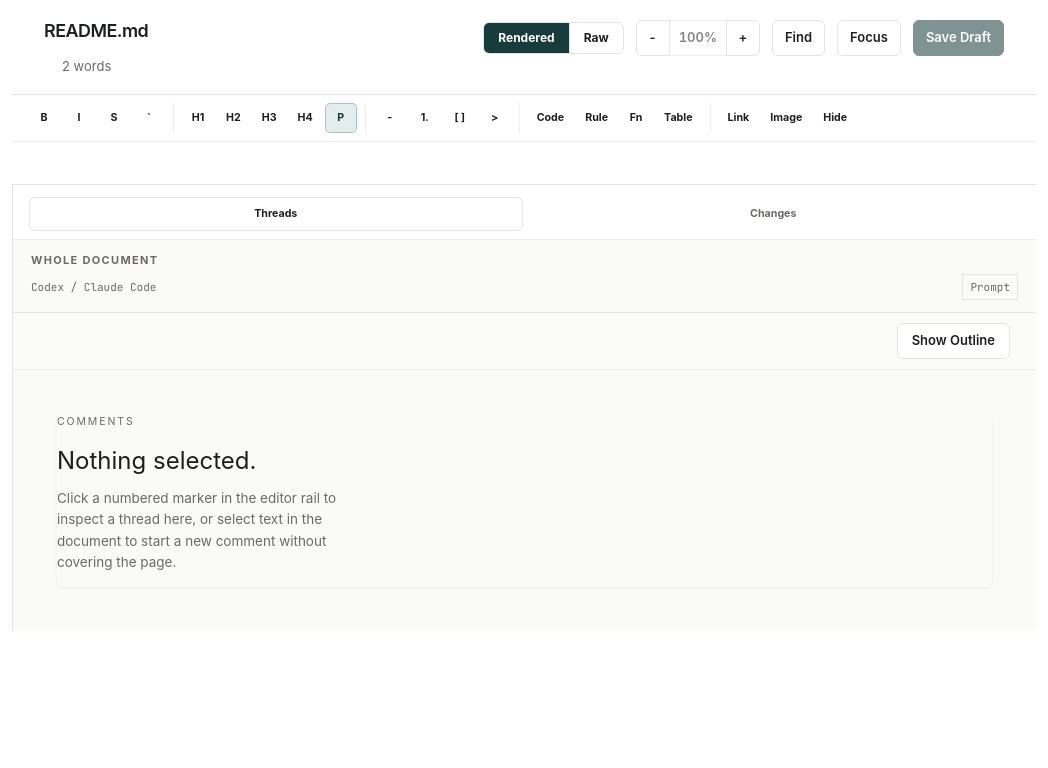
Test case: DocumentEditor keyboard shortcuts › zooms the editor from the header controls and passes the value to CodeMirror
The image size is (1048, 768).
Check: the button named "Reset editor zoom" reads "100%", box [669,20,727,56]
Check: the button named "Reset editor zoom" is disabled, box [669,20,727,56]
Click the button named "Zoom in": (743, 38) [726,20,760,56]
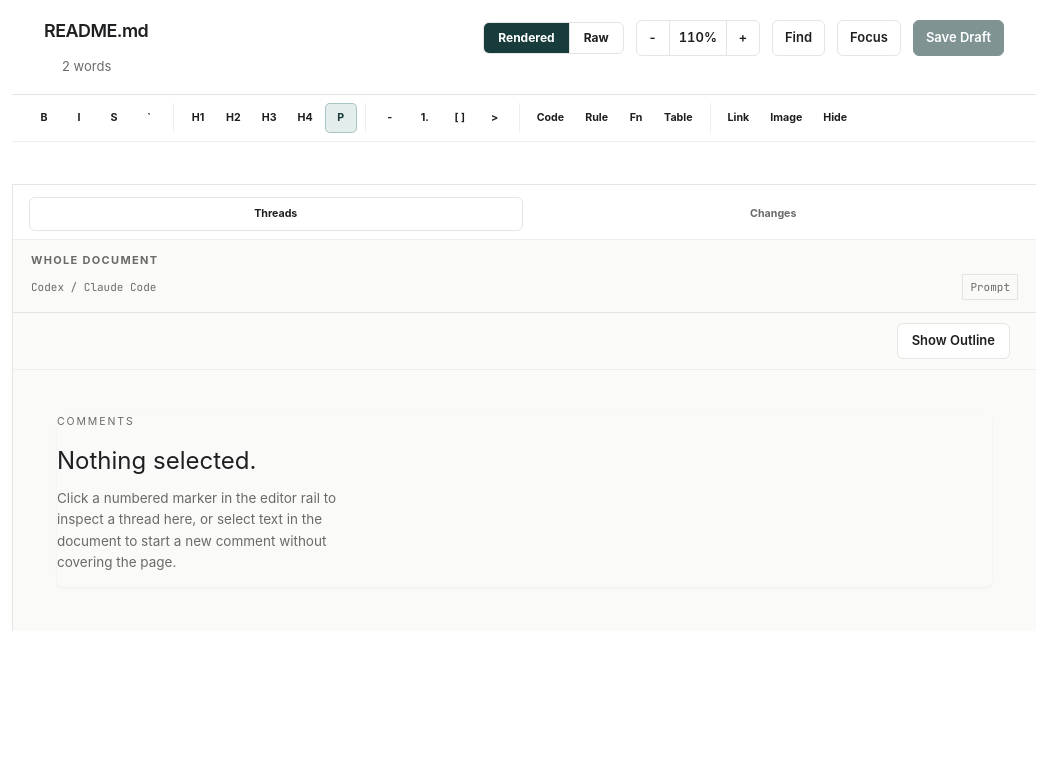
Check: the button named "Reset editor zoom" reads "110%"
Check: the button named "Reset editor zoom" is enabled
Click the button named "Reset editor zoom": (698, 38) [669,20,727,56]
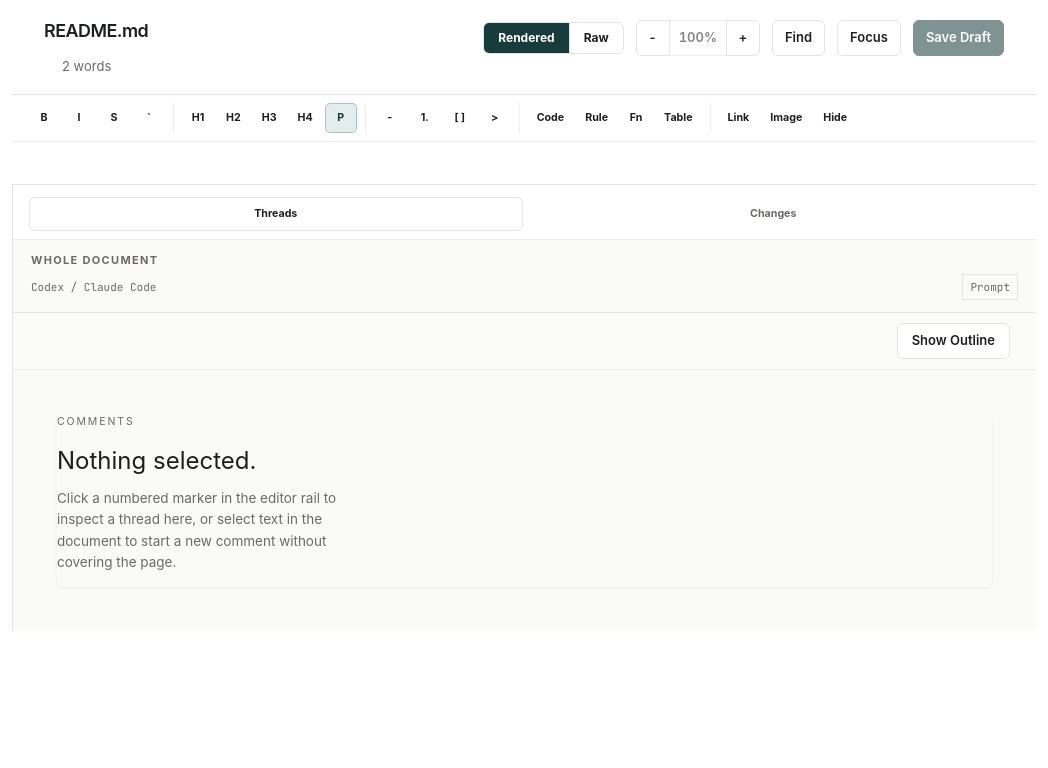
Check: the button named "Reset editor zoom" reads "100%", box [669,20,727,56]
